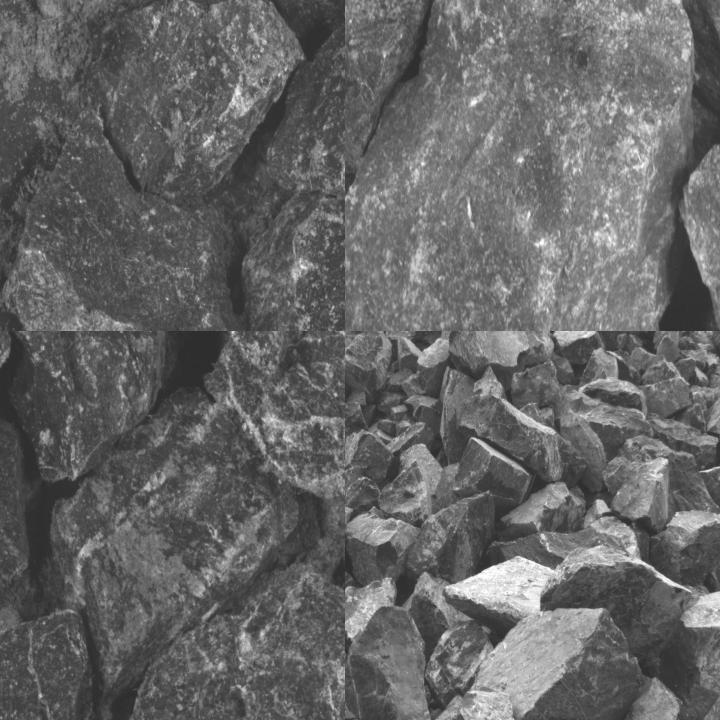stone: (345, 0, 693, 330), (44, 391, 295, 696), (2, 95, 280, 330), (92, 0, 300, 197), (121, 567, 344, 719), (4, 331, 169, 480), (207, 331, 344, 497), (472, 608, 648, 719), (540, 549, 692, 675), (252, 0, 344, 200), (345, 0, 437, 176), (459, 395, 588, 484), (345, 606, 433, 719), (406, 491, 498, 584), (441, 558, 552, 631), (495, 518, 649, 568), (134, 331, 327, 370), (623, 441, 719, 512), (453, 438, 535, 513), (345, 507, 420, 589), (403, 574, 475, 658), (426, 618, 494, 706), (498, 480, 586, 541), (0, 404, 30, 582), (680, 588, 719, 719), (653, 513, 719, 585), (575, 402, 654, 462), (449, 331, 531, 388), (610, 458, 668, 534), (379, 461, 432, 528), (651, 418, 716, 472), (345, 331, 393, 404), (345, 576, 398, 641), (403, 340, 455, 399), (345, 429, 400, 482), (633, 673, 691, 719), (552, 331, 618, 366), (675, 385, 719, 434), (637, 379, 691, 416), (508, 331, 555, 370), (577, 350, 619, 390), (345, 477, 382, 519), (602, 456, 632, 495), (708, 378, 719, 450)
